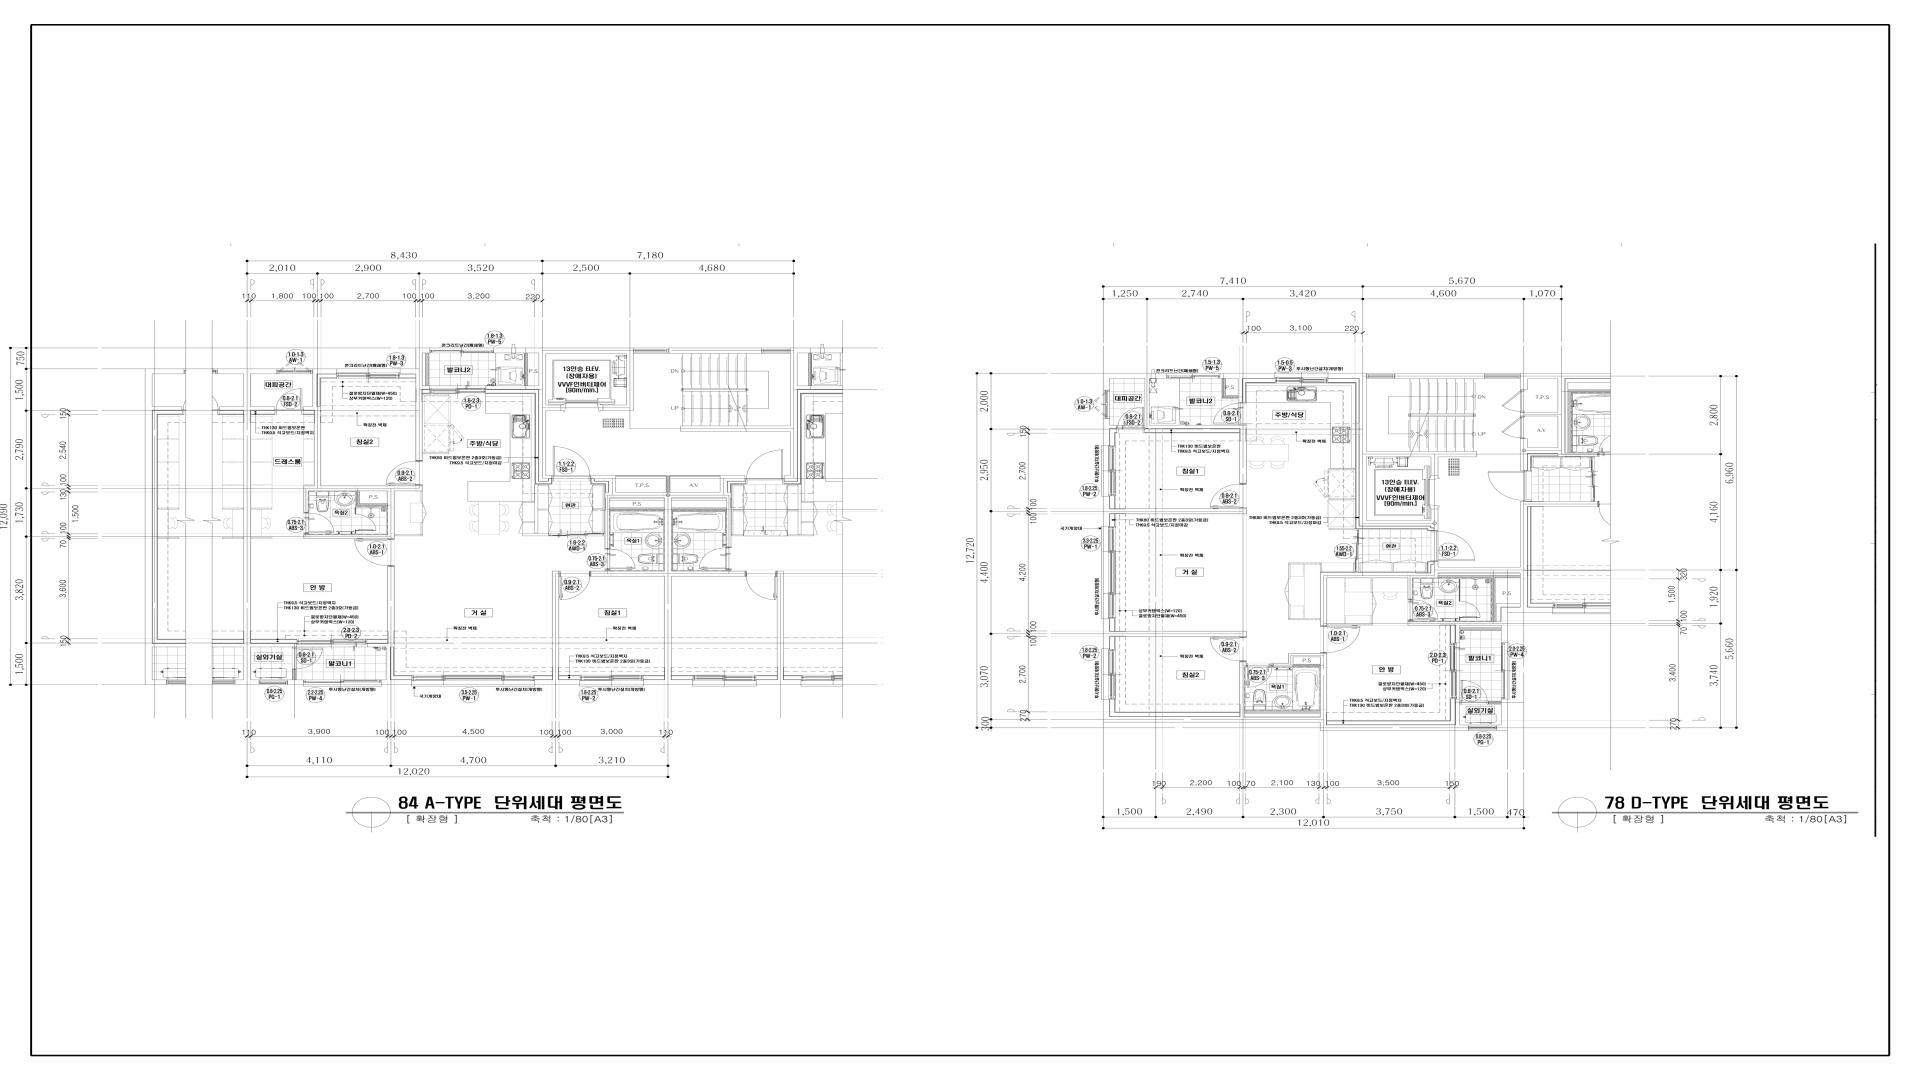door: (1433, 530, 1476, 562), (553, 446, 591, 479), (745, 450, 785, 481), (1487, 471, 1528, 501), (1320, 625, 1361, 654), (355, 538, 394, 567), (1209, 483, 1246, 509), (745, 571, 778, 600), (386, 460, 422, 487), (1209, 637, 1246, 662), (559, 571, 591, 600), (1212, 402, 1246, 426), (274, 388, 303, 415), (1460, 679, 1489, 704), (303, 512, 335, 534), (699, 547, 731, 570), (1246, 663, 1274, 688), (1408, 599, 1439, 621), (605, 549, 636, 570), (1117, 406, 1145, 429), (1501, 417, 1524, 439), (1502, 390, 1524, 413), (355, 514, 377, 531), (1458, 601, 1481, 617), (549, 533, 605, 537), (1356, 529, 1358, 572)
wall: (1328, 378, 1433, 530), (1104, 662, 1320, 723), (1320, 654, 1469, 731), (303, 410, 388, 512), (485, 389, 551, 484), (542, 348, 633, 410), (785, 389, 843, 484), (367, 567, 411, 686), (756, 571, 802, 686), (644, 576, 692, 684), (535, 571, 580, 686), (1320, 572, 1415, 625), (1437, 567, 1553, 608), (1147, 378, 1240, 429), (1104, 496, 1246, 526), (1104, 618, 1246, 649), (1439, 575, 1520, 622), (212, 644, 297, 686), (1557, 378, 1598, 456), (1366, 451, 1477, 476), (1568, 389, 1610, 454), (218, 369, 277, 410), (485, 348, 542, 389), (386, 485, 422, 538), (1501, 607, 1552, 642), (603, 353, 634, 410), (145, 644, 186, 686), (591, 476, 669, 496), (244, 410, 251, 644), (1520, 373, 1610, 390), (669, 476, 745, 496), (303, 369, 336, 410), (415, 373, 430, 460), (785, 348, 794, 479), (595, 479, 612, 549), (1520, 439, 1557, 471), (1104, 373, 1167, 390), (1410, 562, 1439, 599), (1456, 624, 1501, 644), (591, 571, 745, 576), (400, 348, 430, 373), (542, 410, 553, 479), (680, 426, 790, 431), (1520, 501, 1528, 567), (665, 495, 671, 571), (356, 491, 388, 506), (1360, 378, 1366, 454), (669, 348, 761, 353), (1274, 654, 1320, 665), (1395, 373, 1485, 378), (1240, 425, 1246, 483), (1527, 501, 1598, 506), (1104, 418, 1117, 446), (303, 534, 388, 538), (1497, 699, 1507, 731), (1222, 378, 1238, 398), (1552, 608, 1610, 613), (1220, 373, 1275, 378), (1275, 373, 1328, 378), (591, 479, 609, 492), (728, 481, 745, 493), (1328, 373, 1366, 378), (1245, 711, 1320, 713), (493, 348, 526, 353), (1520, 413, 1557, 417), (671, 508, 727, 510), (609, 508, 665, 510), (1408, 622, 1456, 625), (1460, 628, 1501, 630), (1238, 378, 1242, 402), (525, 353, 527, 386), (426, 353, 429, 386), (1292, 665, 1320, 667), (729, 493, 731, 547), (670, 476, 720, 477), (287, 680, 303, 684), (666, 476, 670, 492), (1428, 562, 1433, 572), (293, 670, 297, 680), (1489, 702, 1501, 704), (1458, 579, 1460, 601), (355, 508, 356, 514), (1458, 617, 1460, 621), (1408, 621, 1412, 622), (605, 570, 609, 571), (727, 570, 731, 571), (355, 531, 356, 534), (616, 476, 666, 476)
window: (1108, 526, 1116, 620), (411, 675, 535, 680), (277, 361, 313, 375), (297, 638, 368, 645), (1449, 642, 1457, 699), (1095, 390, 1110, 418), (1108, 649, 1116, 700), (1108, 446, 1116, 496), (430, 388, 485, 394), (579, 675, 644, 680), (336, 373, 400, 378), (692, 675, 756, 680), (430, 349, 493, 353), (1101, 526, 1104, 618), (1501, 642, 1505, 699), (800, 675, 843, 680), (303, 680, 381, 683), (411, 686, 535, 687), (1507, 642, 1510, 699), (1167, 376, 1220, 378), (1101, 649, 1104, 700), (1101, 446, 1104, 496), (260, 680, 287, 684), (802, 684, 843, 687), (303, 684, 381, 686), (1485, 375, 1520, 377), (633, 349, 669, 352), (692, 684, 757, 686), (580, 684, 644, 686), (1366, 375, 1395, 377), (1469, 727, 1497, 729), (762, 349, 790, 352), (1275, 372, 1328, 373), (212, 680, 235, 683)
